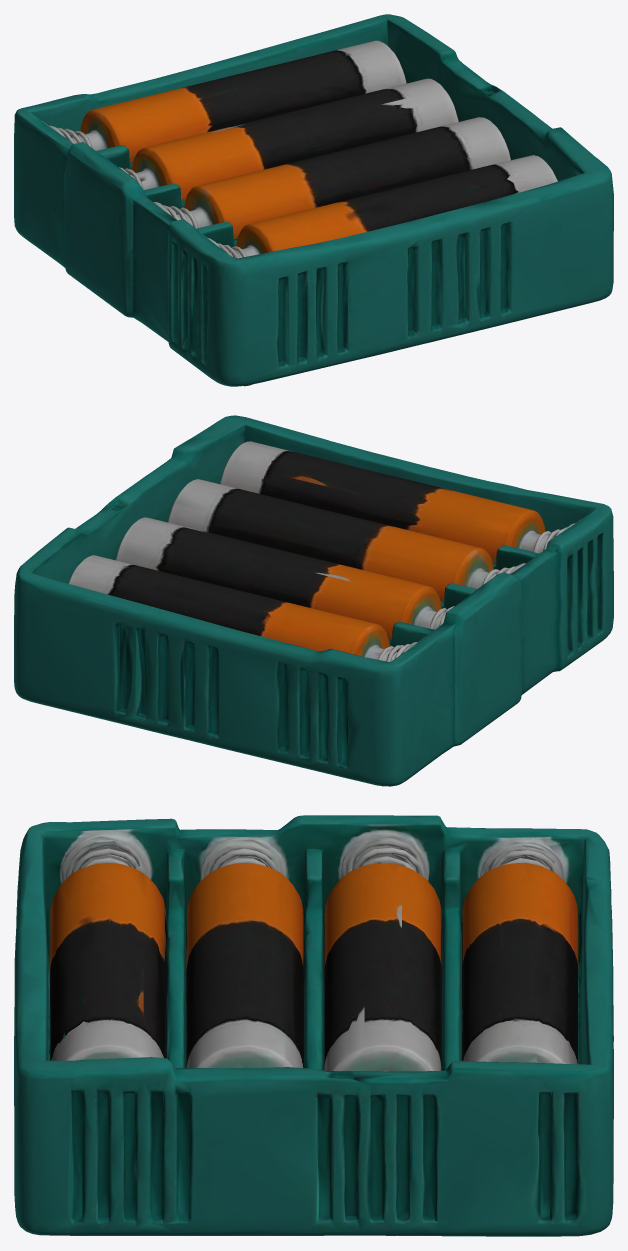
The model's file is bigbattery.glb.
The picture shows the model from 3 angles, top to bottom: view 1: azimuth 30°, elevation 25°; view 2: azimuth 150°, elevation 25°; view 3: azimuth 270°, elevation 25°; orthographic projection. The views are drawn at different scales.
Parts seen in each view (by area): view 1: tripo_node_1667ae5a-2f83-4d23-80e4-0ea2e1cbd08d; view 2: tripo_node_1667ae5a-2f83-4d23-80e4-0ea2e1cbd08d; view 3: tripo_node_1667ae5a-2f83-4d23-80e4-0ea2e1cbd08d.
Boxes of the visible parts, x1=… form: tripo_node_1667ae5a-2f83-4d23-80e4-0ea2e1cbd08d: x1=14, y1=14, x2=613, y2=386; tripo_node_1667ae5a-2f83-4d23-80e4-0ea2e1cbd08d: x1=14, y1=415, x2=613, y2=786; tripo_node_1667ae5a-2f83-4d23-80e4-0ea2e1cbd08d: x1=14, y1=815, x2=613, y2=1236.
Bounding box in the file's own units: 1 × 0.3319 × 0.9961.
Materials: 1 (1 with a texture image).
